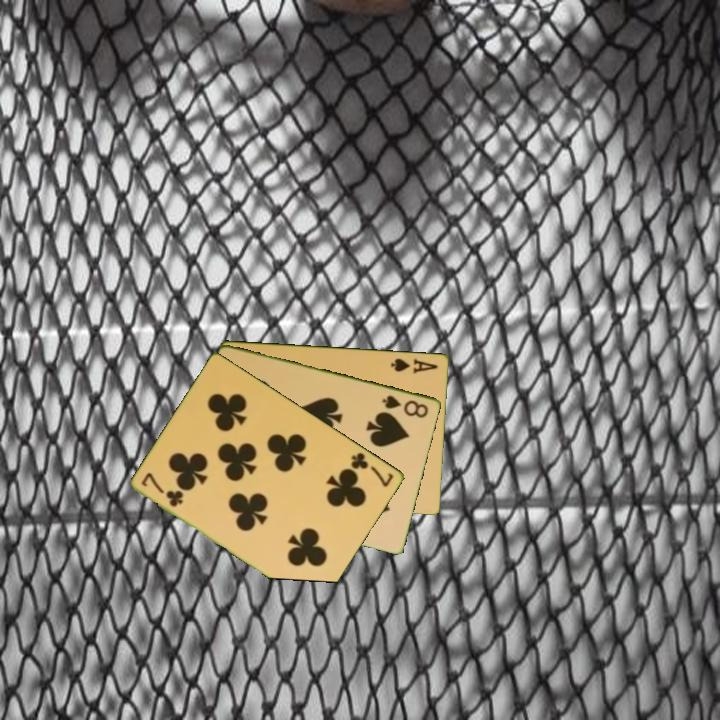7c: (348, 449, 397, 490), (138, 469, 187, 510)
8s: (379, 391, 432, 421)
As: (387, 354, 441, 376)
